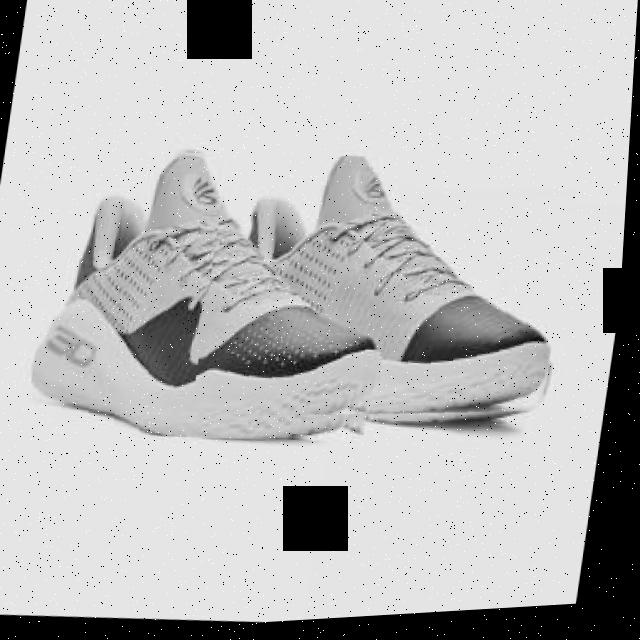shoe: (27, 128, 414, 463), (194, 139, 585, 450)
